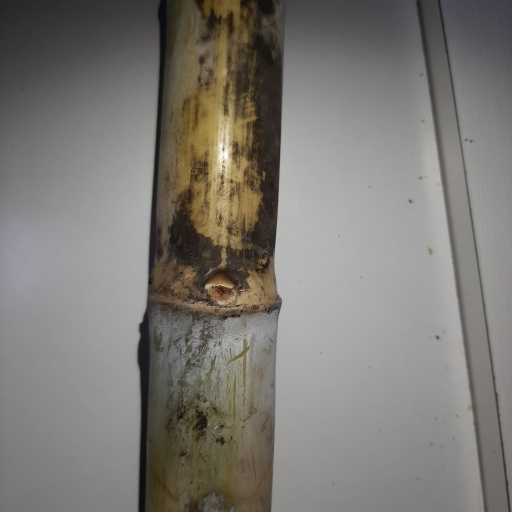Damage_Bud: (206, 272, 238, 305)
